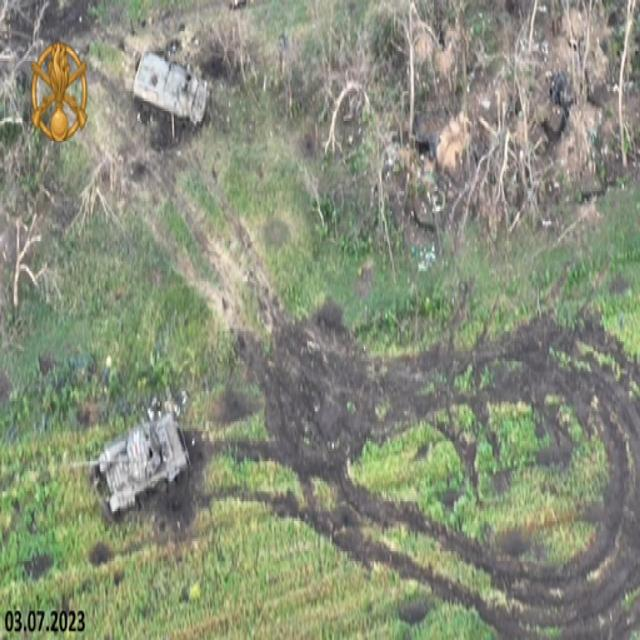APC-IFV: (128, 47, 208, 131)
TANK: (66, 407, 192, 520)
